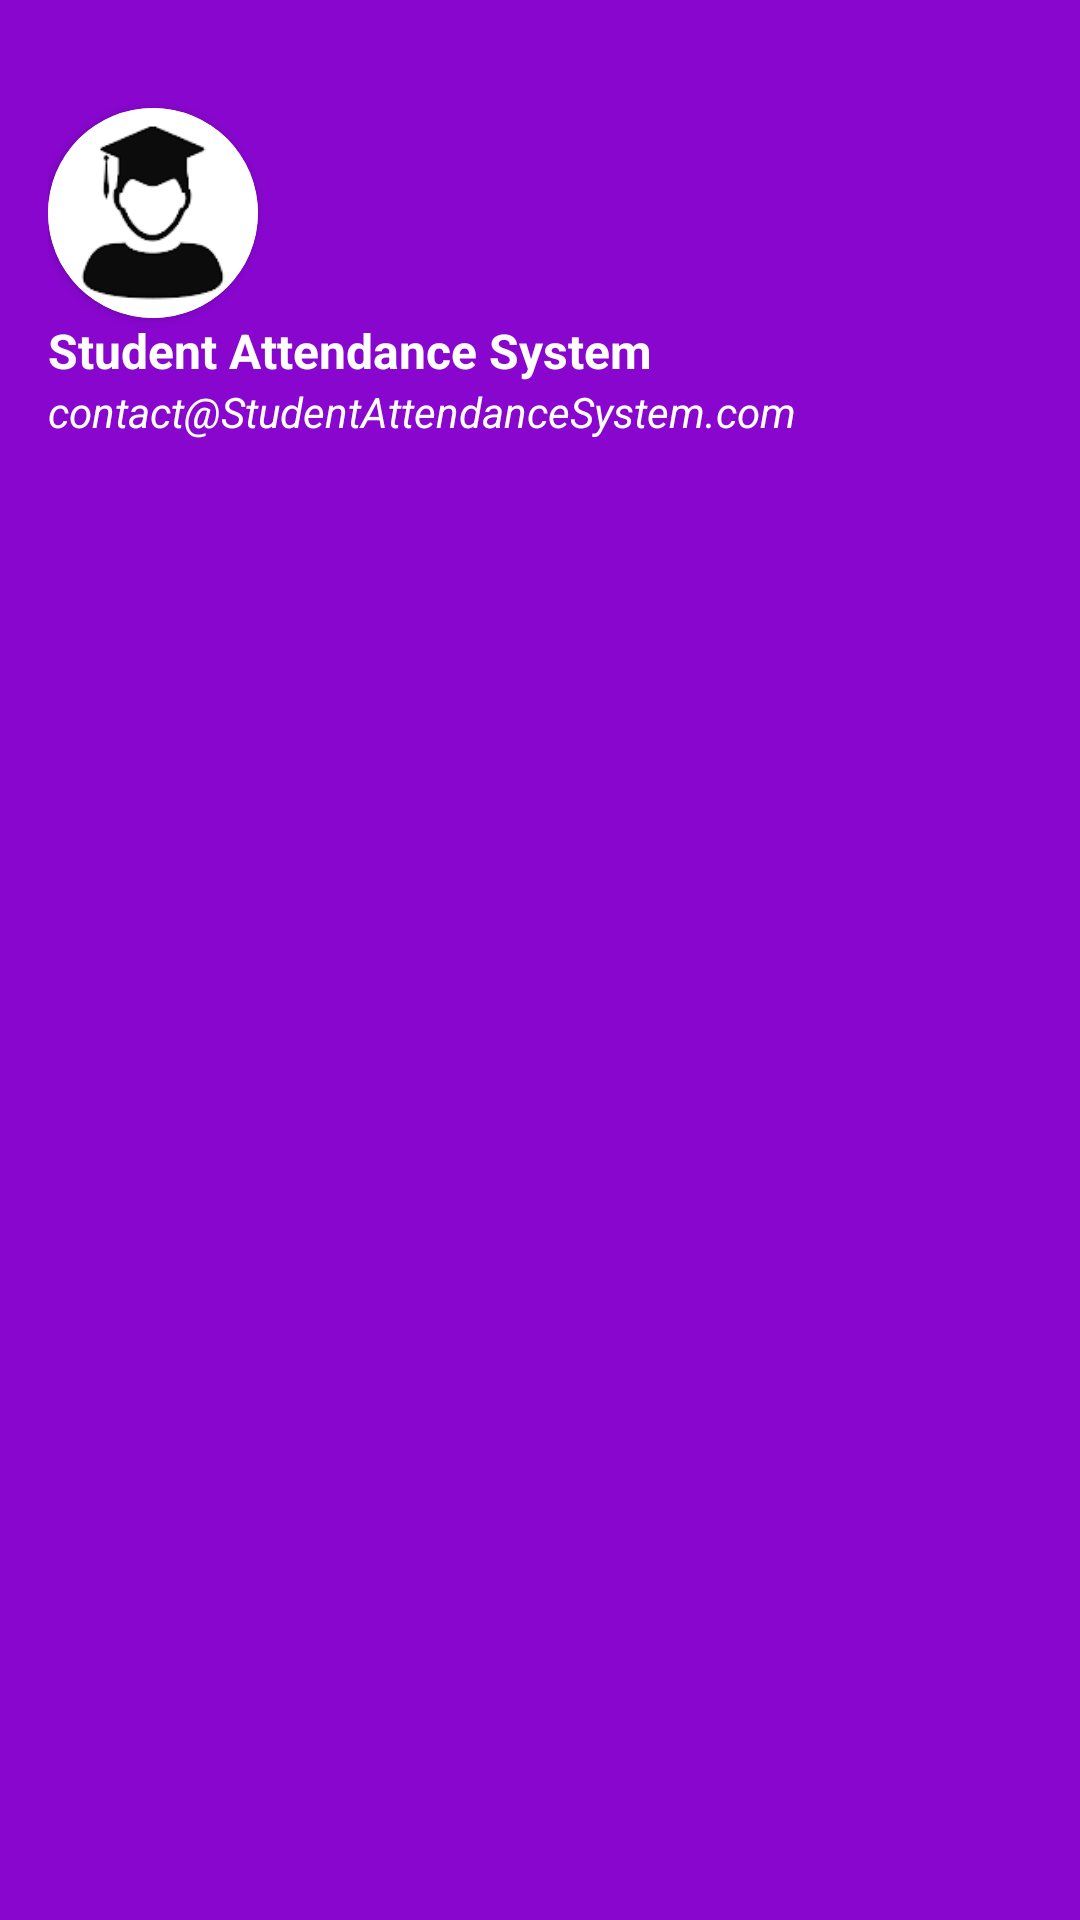

Icon bounding boxes for this 1080w x 1920h phone screenshot, format (x1, y1, x2, y2):
stdreg: (48, 108, 258, 318)
